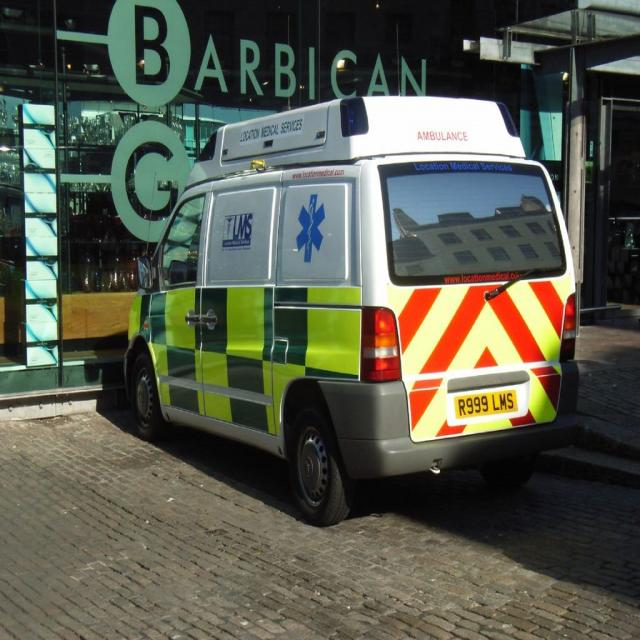Ambulance: (119, 97, 584, 527)
